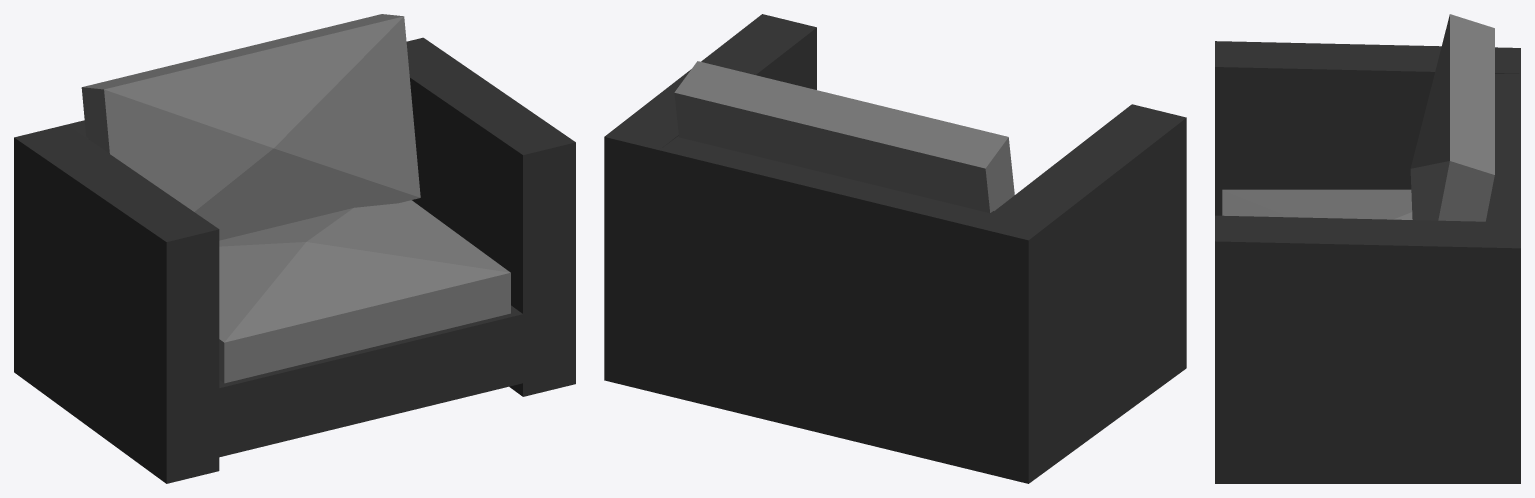
The model's file is Couch_3A.fbx.
3 views of the same model, side by side, from view 1: azimuth 30°, elevation 25°; view 2: azimuth 150°, elevation 25°; view 3: azimuth 270°, elevation 25° (orthographic). The views are drawn at different scales.
Parts seen in each view (by area): view 1: polySurface1847; view 2: polySurface1847; view 3: polySurface1847.
Part boxes in pixels (left/top/right/bottom): polySurface1847: left=14, top=14, right=575, bottom=483; polySurface1847: left=604, top=14, right=1186, bottom=483; polySurface1847: left=1215, top=14, right=1520, bottom=483.
Bounding box in the file's own units: 1.86 × 1.28 × 1.2.
Materials: 1 (1 with a texture image).
